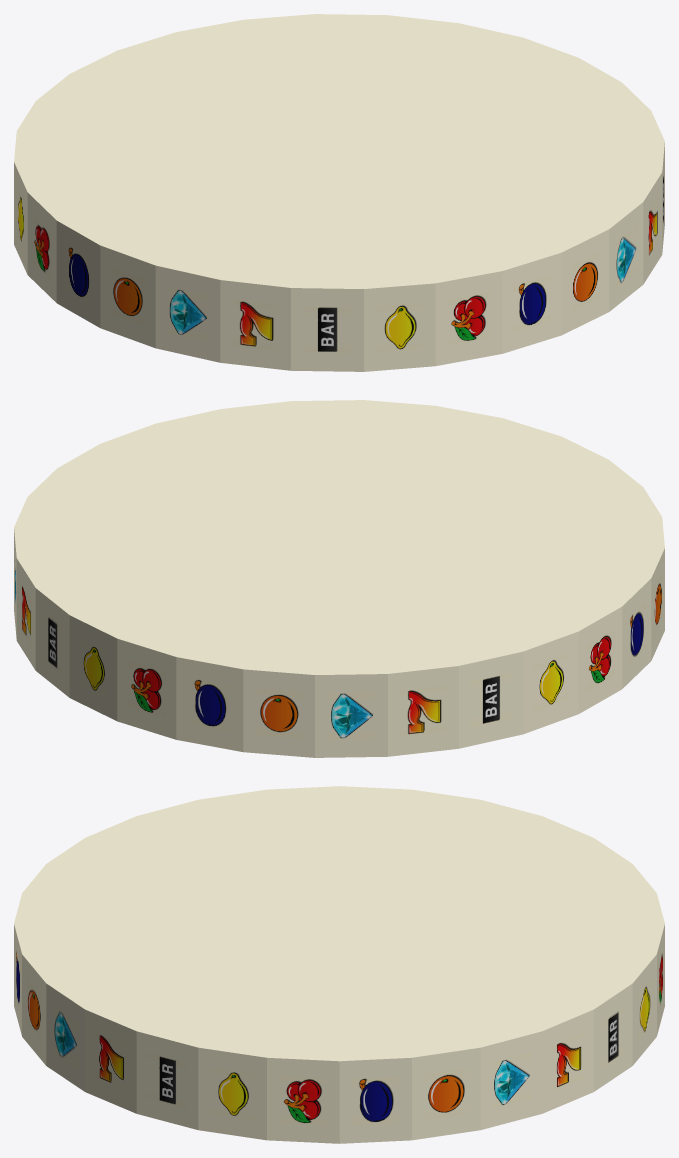
File: WHEEL5.fbx
The picture shows the model from 3 angles, top to bottom: view 1: azimuth 30°, elevation 25°; view 2: azimuth 150°, elevation 25°; view 3: azimuth 270°, elevation 25°; orthographic projection.
Parts seen in each view (by area): view 1: Cylinder; view 2: Cylinder; view 3: Cylinder.
Boxes of the visible parts, x1=… form: Cylinder: x1=14, y1=14, x2=664, y2=371; Cylinder: x1=14, y1=400, x2=664, y2=757; Cylinder: x1=14, y1=786, x2=664, y2=1143.
Bounding box in the file's own units: 200 × 28 × 200.
